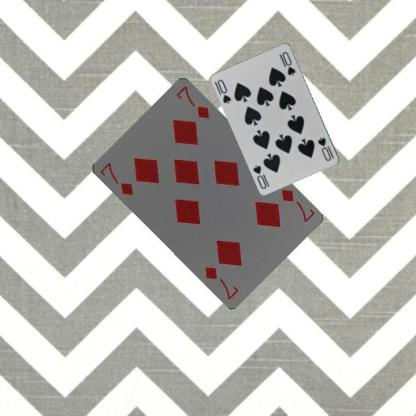10s: (316, 135, 336, 162), (215, 77, 232, 105)
7d: (278, 186, 316, 224), (97, 160, 134, 196)
